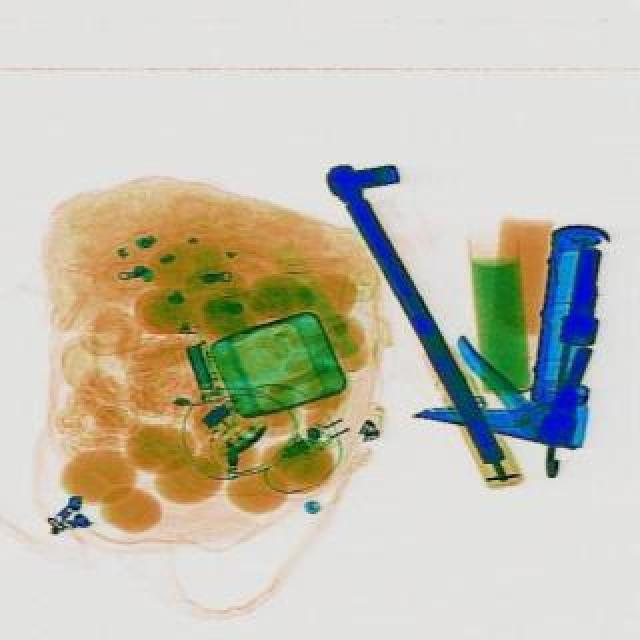knife: (406, 206, 610, 448)
